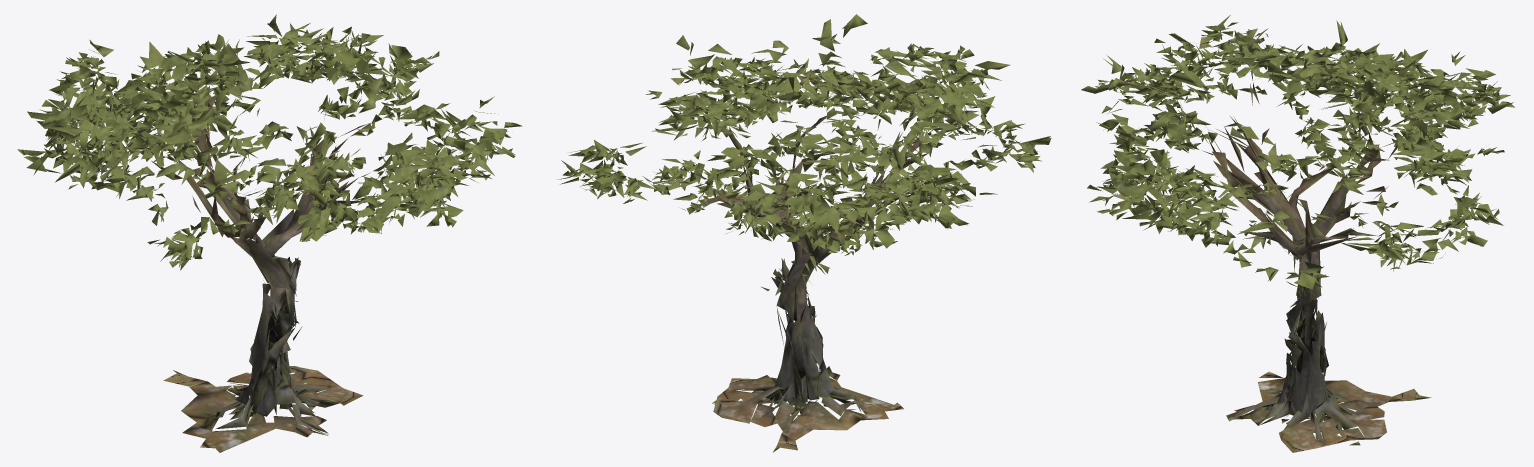
Rendered from acacia_espinhosa_adulta.glb.
The picture shows the model from 3 angles, left to right: view 1: azimuth 30°, elevation 25°; view 2: azimuth 150°, elevation 25°; view 3: azimuth 270°, elevation 25°; orthographic projection. The views are drawn at different scales.
Visible parts, largest first — view 1: geometry_0; view 2: geometry_0; view 3: geometry_0.
Boxes of the visible parts, box(x1,y1,x2,y2) form: geometry_0: box(17, 14, 522, 452); geometry_0: box(557, 14, 1051, 452); geometry_0: box(1081, 15, 1514, 452).
Size of the model in its own units: 0.9792 by 0.8204 by 0.9184.
Materials: 1 (1 with a texture image).
